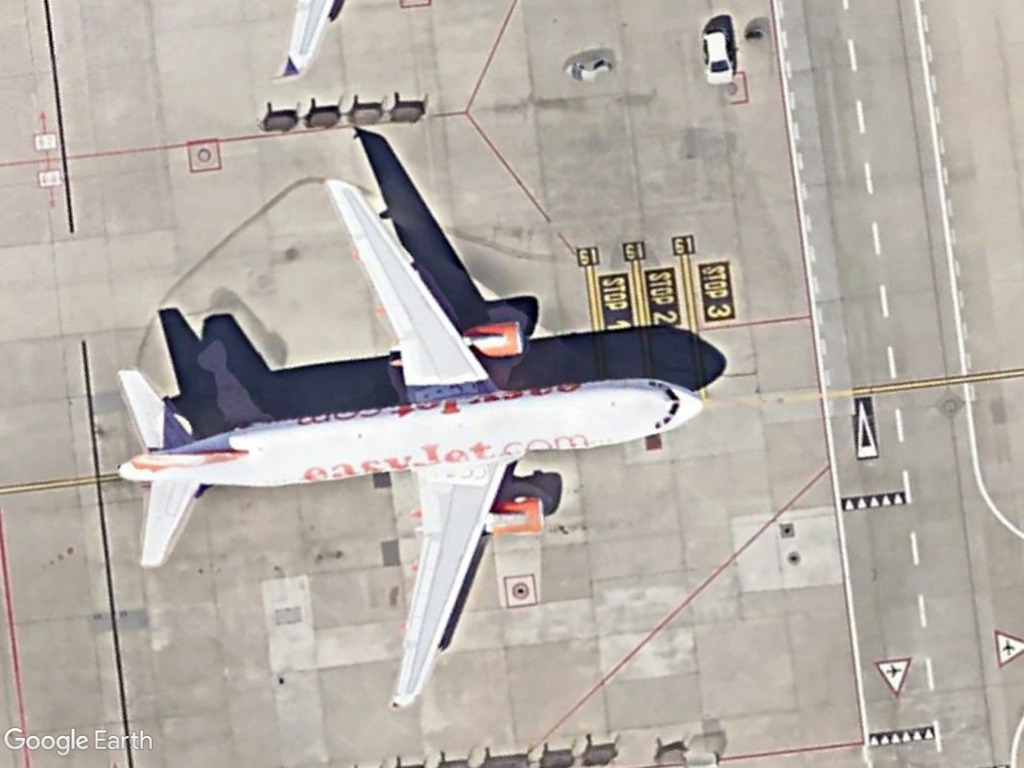airliner: (98, 175, 716, 710)
car: (698, 25, 737, 89)
